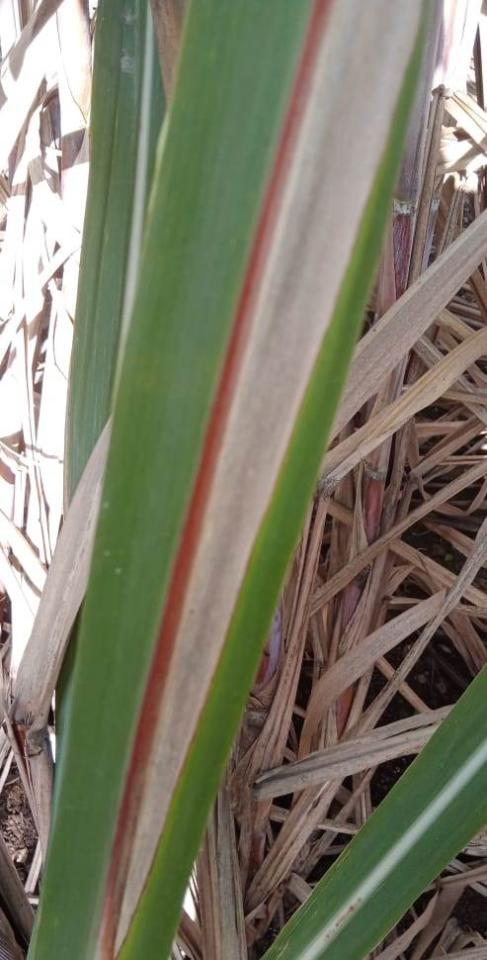RedRot: (96, 0, 343, 959)
